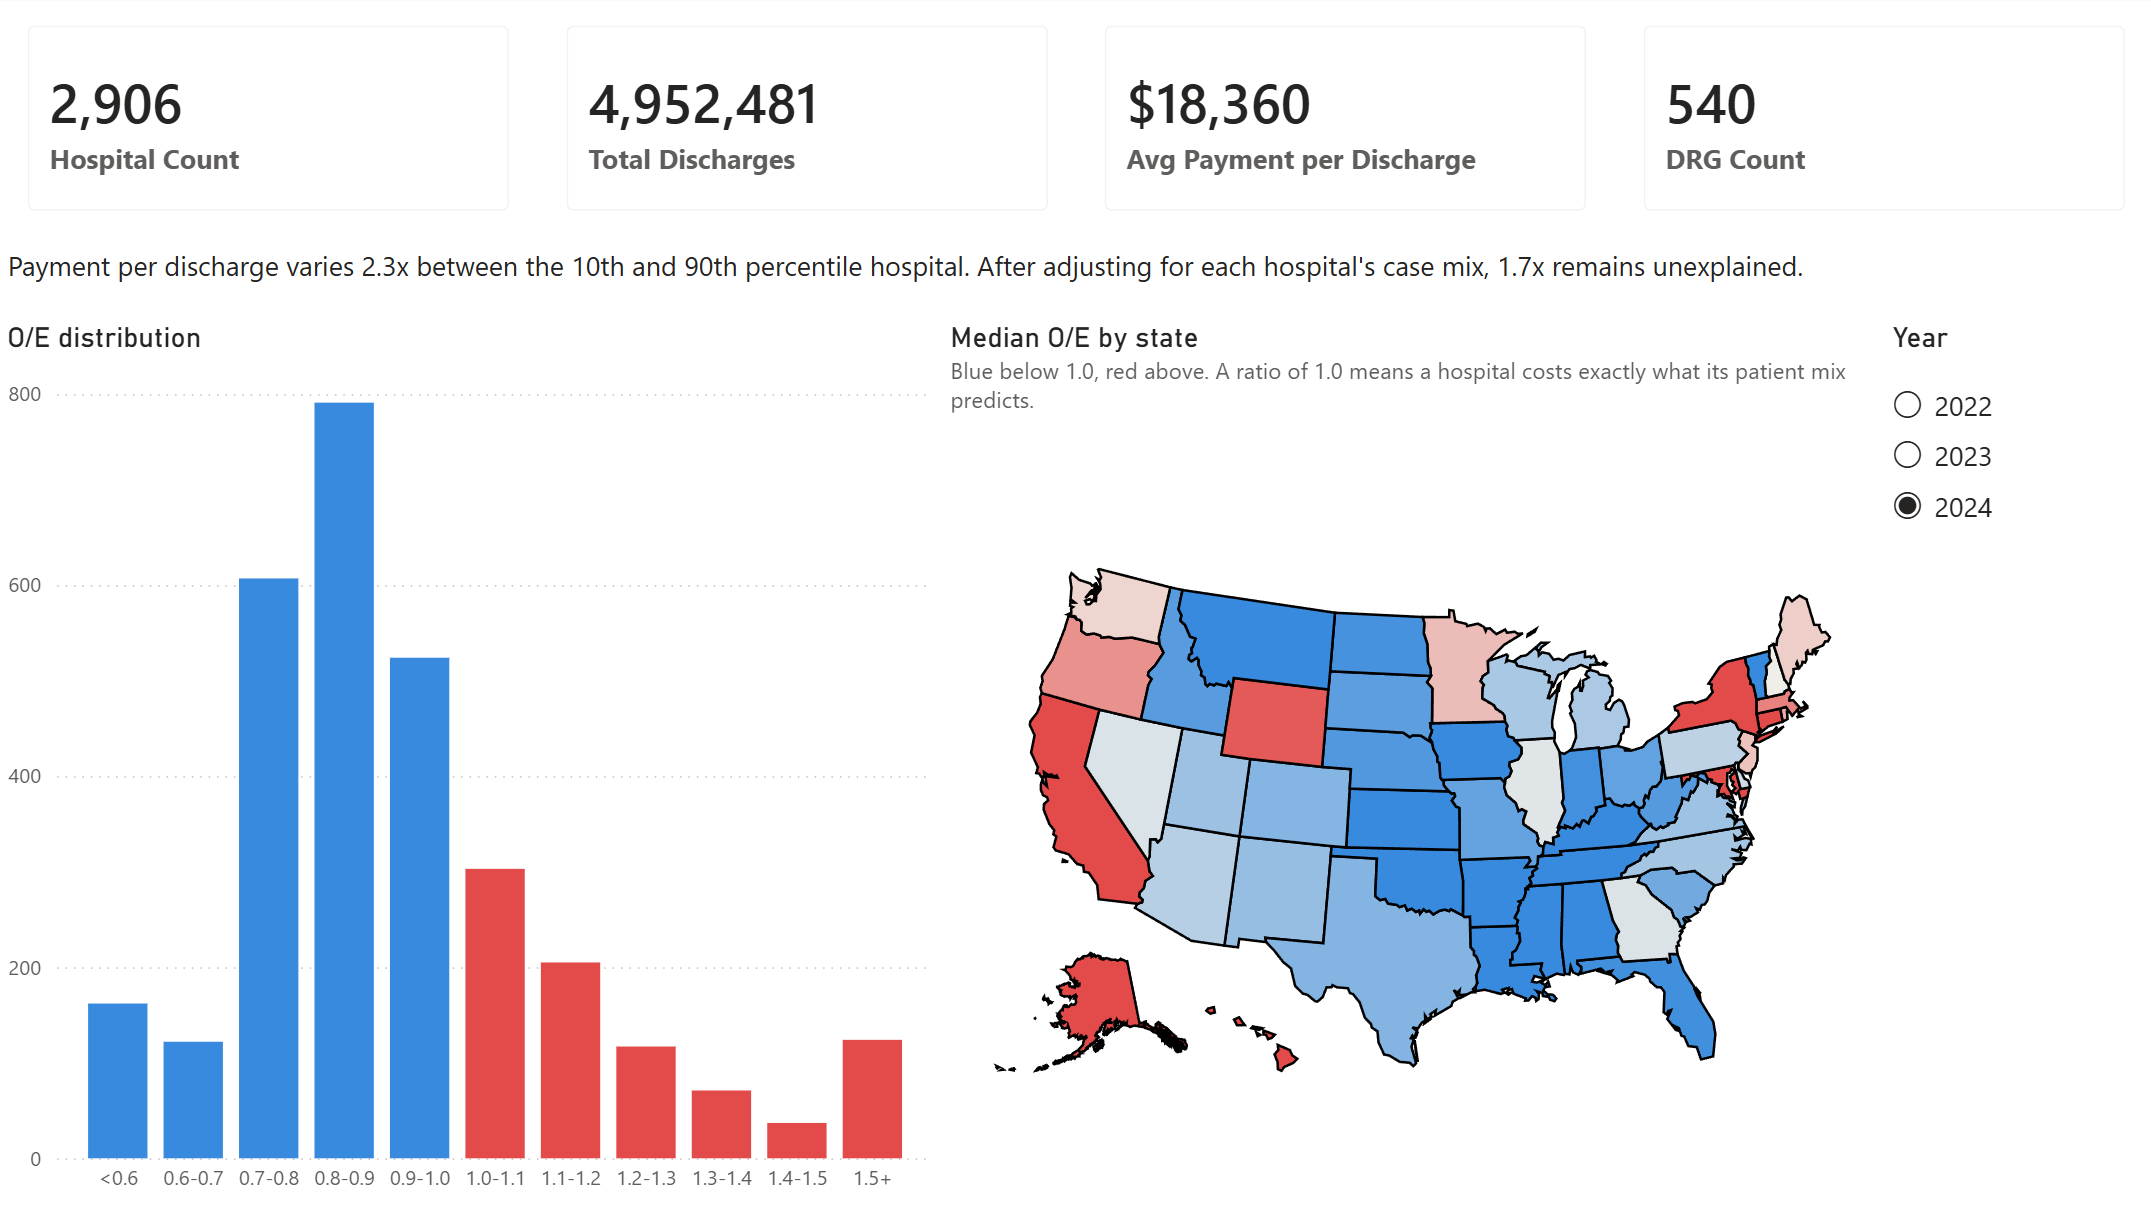

What the dashboard file says about the page in this screenshot:
{"tool":"powerbi","page":{"name":"Overview","canvas":[1280,720],"ordinal":2},"visuals":[{"type":"cardVisual","fields":{"Data":["_Measures.Hospital Count"]},"box":[0,0,320,144],"z":0},{"type":"cardVisual","fields":{"Data":["_Measures.Total Discharges"]},"box":[320,0,320,144],"z":1000},{"type":"cardVisual","fields":{"Data":["_Measures.Avg Payment per Discharge"]},"box":[640,0,320,144],"z":2000},{"type":"cardVisual","fields":{"Data":["_Measures.DRG Count"]},"box":[960,0,320,144],"z":3000},{"type":"listSlicer","fields":{"Values":["dim_year.Year"]},"box":[1120,192,160,528],"z":4000},{"type":"textbox","box":[0,144,1280,48],"z":5000},{"type":"clusteredColumnChart","title":"O/E distribution","fields":{"Category":["O/E Bins.Bin"],"Y":["O/E Bins.Hospitals in Bin"]},"box":[0,192,560,528],"z":6000},{"type":"shapeMap","title":"Median O/E by state","fields":{"Category":["dim_hospital.State"],"Value":["_Measures.O/E Ratio"]},"box":[560,192,560,528],"z":7000}]}

Visuals, with their boxes in screenshot pixels (x1, y1, x2, y2), scaled from the page's 1280x720 canvas onto the 2151x1206 screenshot:
cardVisual - _Measures.Hospital Count: (0, 0, 538, 241)
cardVisual - _Measures.Total Discharges: (538, 0, 1076, 241)
cardVisual - _Measures.Avg Payment per Discharge: (1076, 0, 1613, 241)
cardVisual - _Measures.DRG Count: (1613, 0, 2150, 241)
listSlicer - dim_year.Year: (1882, 322, 2150, 1205)
textbox: (0, 241, 2150, 322)
"O/E distribution" clusteredColumnChart: (0, 322, 941, 1205)
"Median O/E by state" shapeMap: (941, 322, 1882, 1205)
